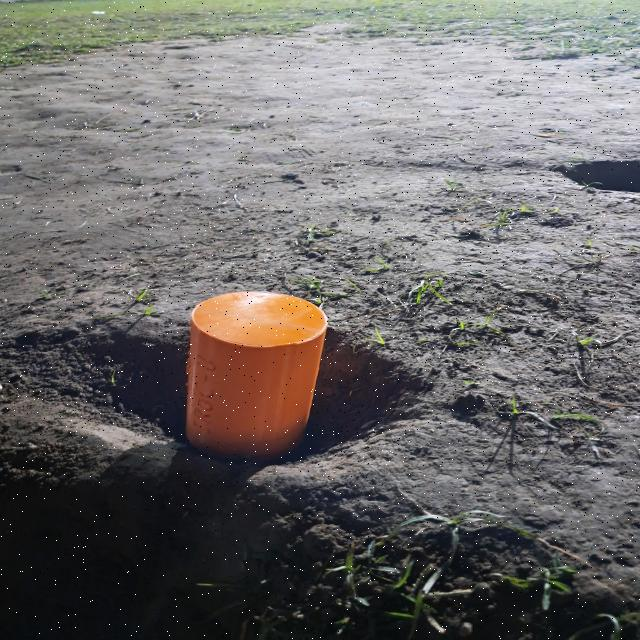Cylinder: (184, 290, 328, 460)
